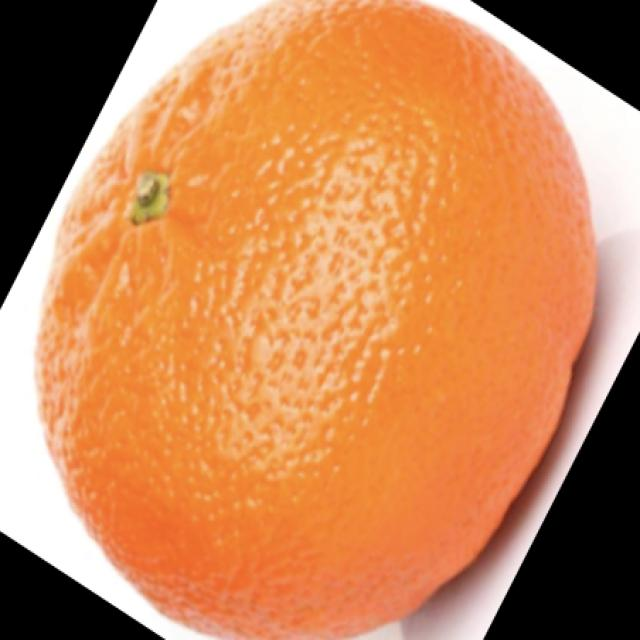orange: (30, 0, 618, 622)
